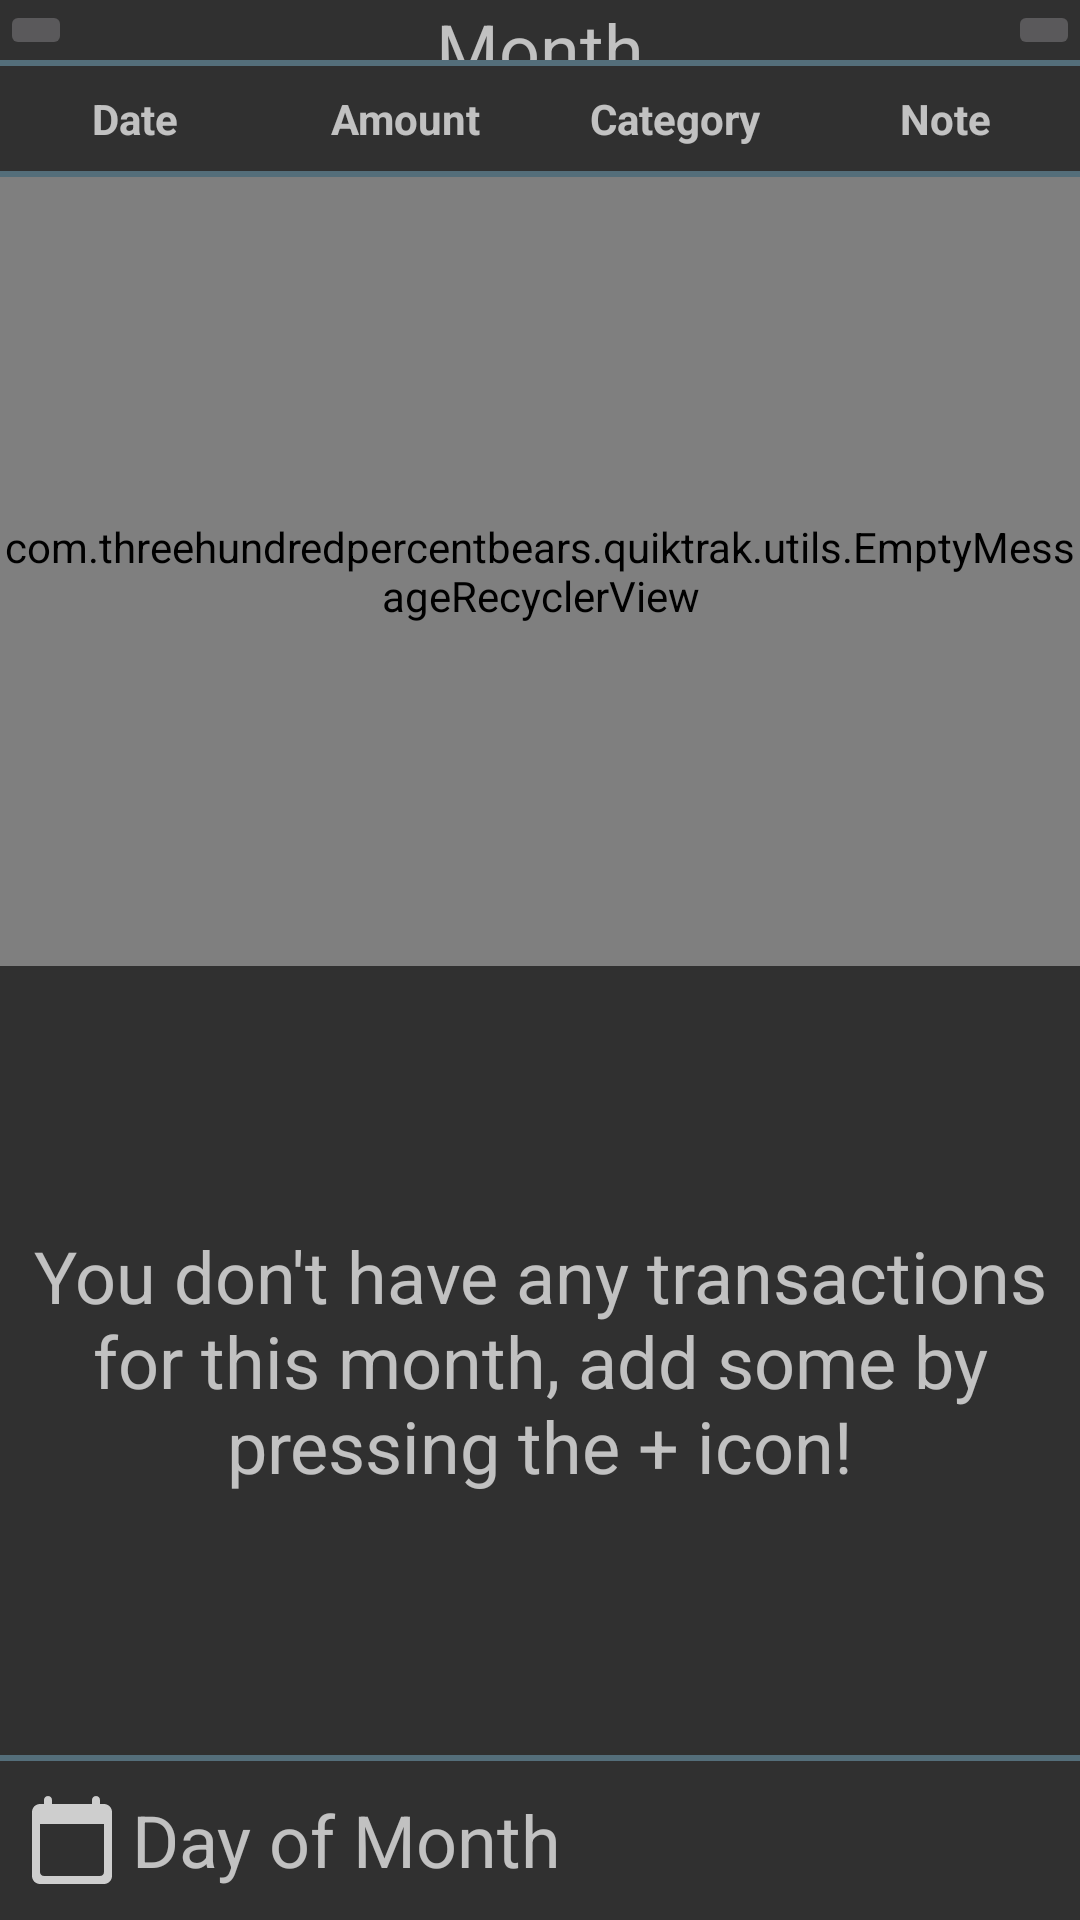

Icon click points for this 1080 × 1920 phone screenshot, format (x=x, y=y):
calendar: (x=72, y=1840)
